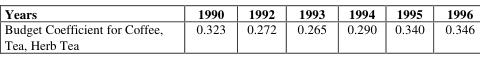table: (3, 4, 473, 52)
table column: (3, 4, 178, 52), (178, 4, 235, 52), (235, 4, 286, 52), (286, 4, 336, 52), (336, 4, 385, 52), (385, 4, 434, 52), (434, 4, 473, 52)
table column header: (3, 4, 473, 20)
table row: (3, 20, 473, 52), (3, 4, 473, 20)
